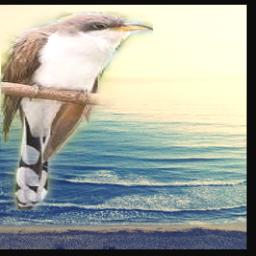Cuckoo: (1, 11, 153, 210)
